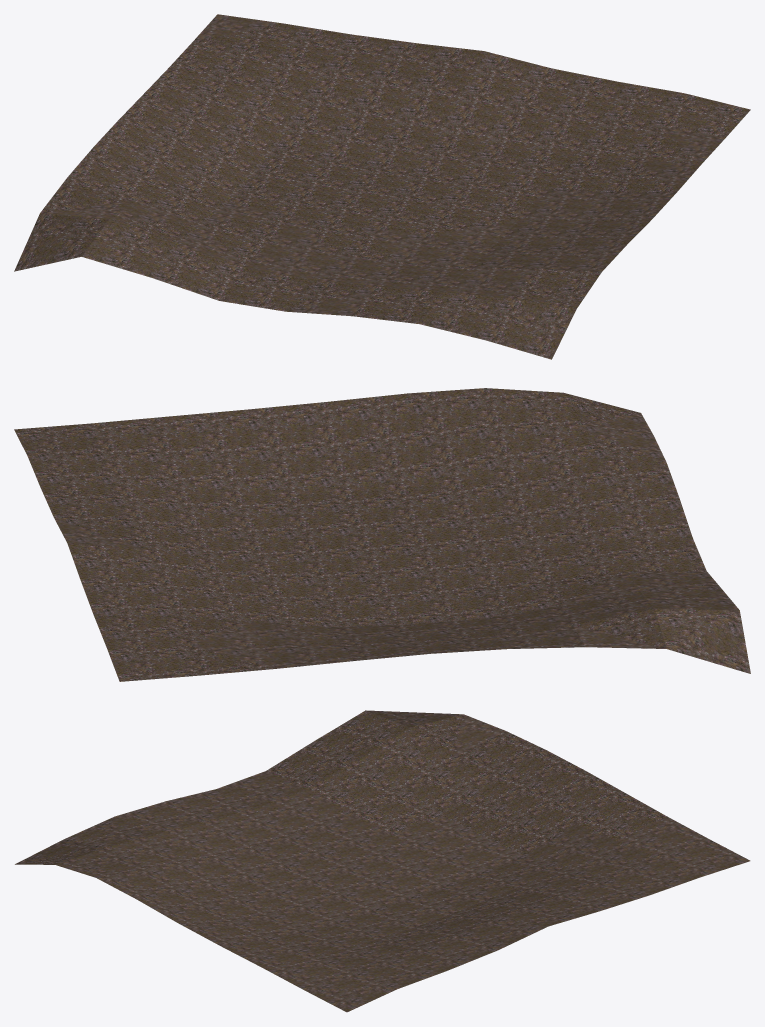
Rendered from zemlya.glb.
3 views of the same model, one above another, from view 1: azimuth 30°, elevation 25°; view 2: azimuth 150°, elevation 25°; view 3: azimuth 270°, elevation 25° (orthographic). The views are drawn at different scales.
Visible parts, largest first — view 1: Plane; view 2: Plane; view 3: Plane.
Boxes of the visible parts, x1,y1,x2,y2 form: Plane: (14,14,750,359); Plane: (14,388,750,681); Plane: (15,710,750,1012).
Size of what is drawn, in the model's own units: 74.96 by 4.3 by 74.46.
1 material, 1 textured.
